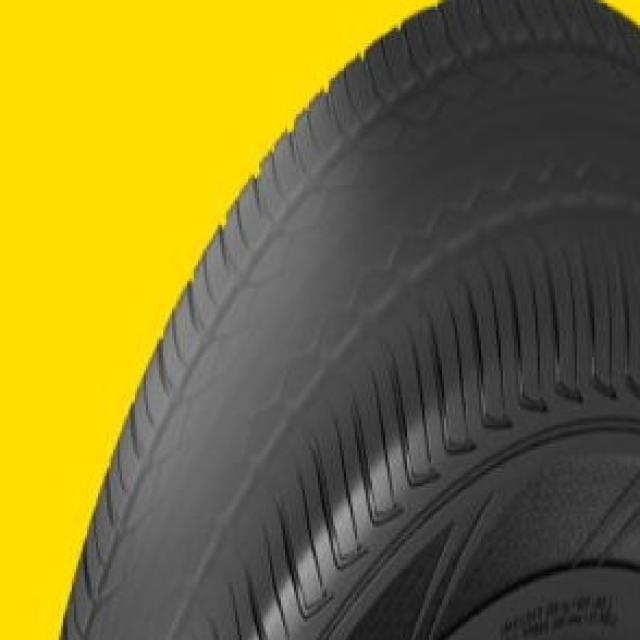Flat spots: (192, 224, 444, 511), (418, 62, 576, 215)
